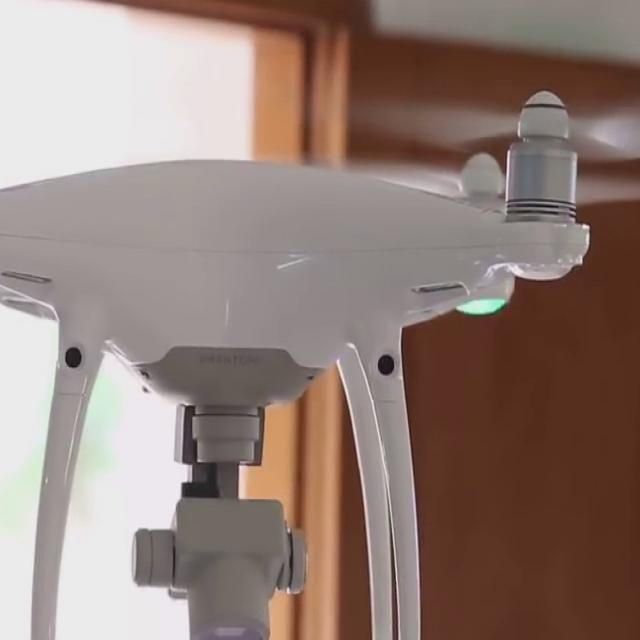drone: (0, 32, 640, 485)
